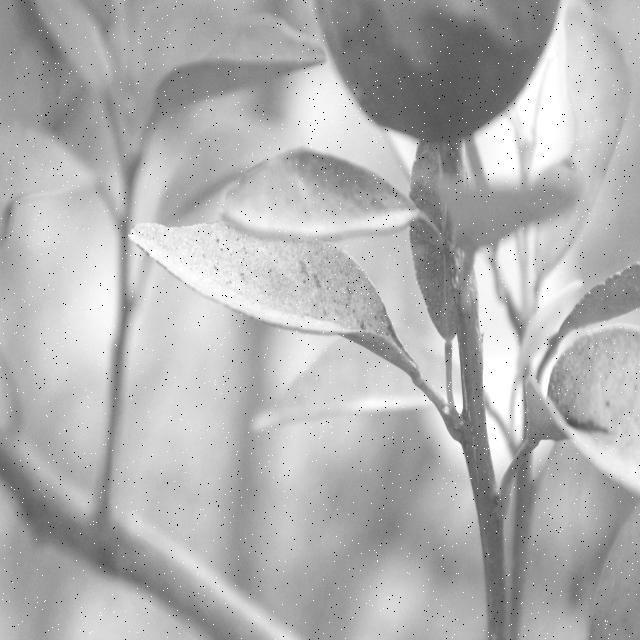blackspot: (154, 208, 418, 371), (555, 351, 640, 466)
